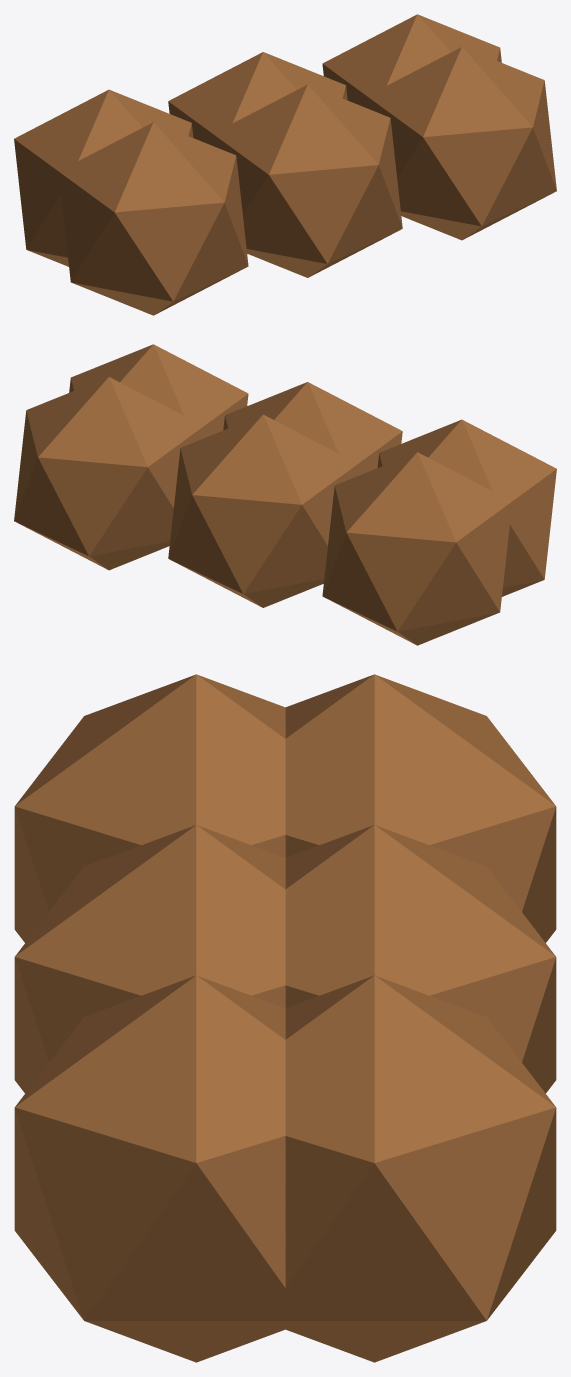
The model's file is coconut_cluster.glb.
The picture shows the model from 3 angles, top to bottom: view 1: azimuth 30°, elevation 25°; view 2: azimuth 150°, elevation 25°; view 3: azimuth 270°, elevation 25°; orthographic projection. The views are drawn at different scales.
Visible parts, largest first — view 1: coconut_cluster; view 2: coconut_cluster; view 3: coconut_cluster.
Part boxes in pixels (box(x1,y1,x2,y2)): coconut_cluster: box(14, 14, 556, 315); coconut_cluster: box(14, 344, 556, 645); coconut_cluster: box(14, 674, 556, 1362).
Bounding box in the file's own units: 0.6147 × 0.24 × 0.3042.
